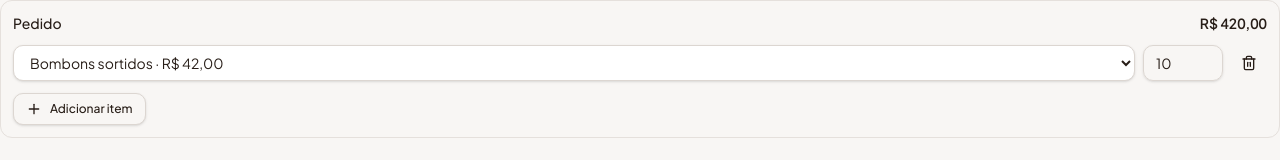
Test: PedidoCampos › trocar o produto e a quantidade refaz o total com o preço do catálogo
Select "Pães de mel · R$ 27,90" in the dropdown named "Produto do item 1" at (574,63), box [13,45,1135,81]
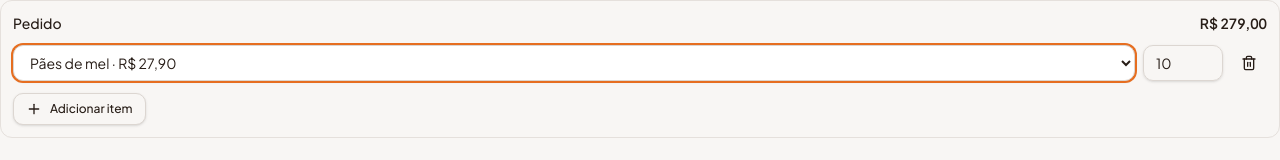
Replace the text in the number field named "Quantidade do item 1" with "3" at (1183,63), box [1143,45,1223,81]
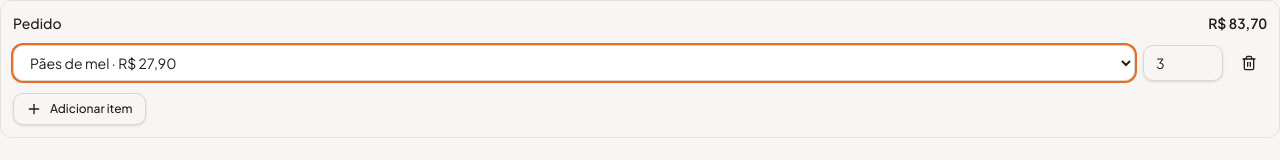
Now the text "R$ 83,70" is shown, box [1208,13,1267,33]
